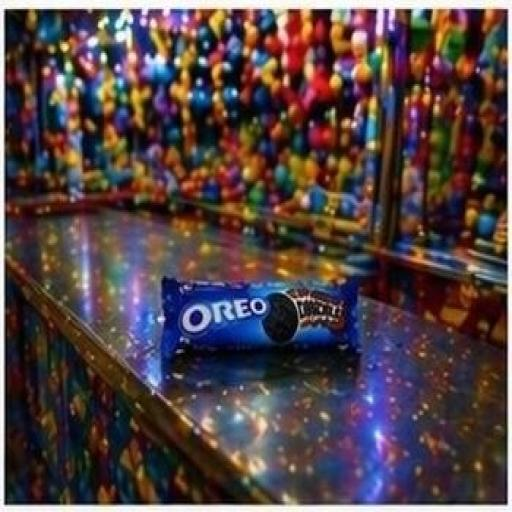oreo: (128, 199, 410, 415)
